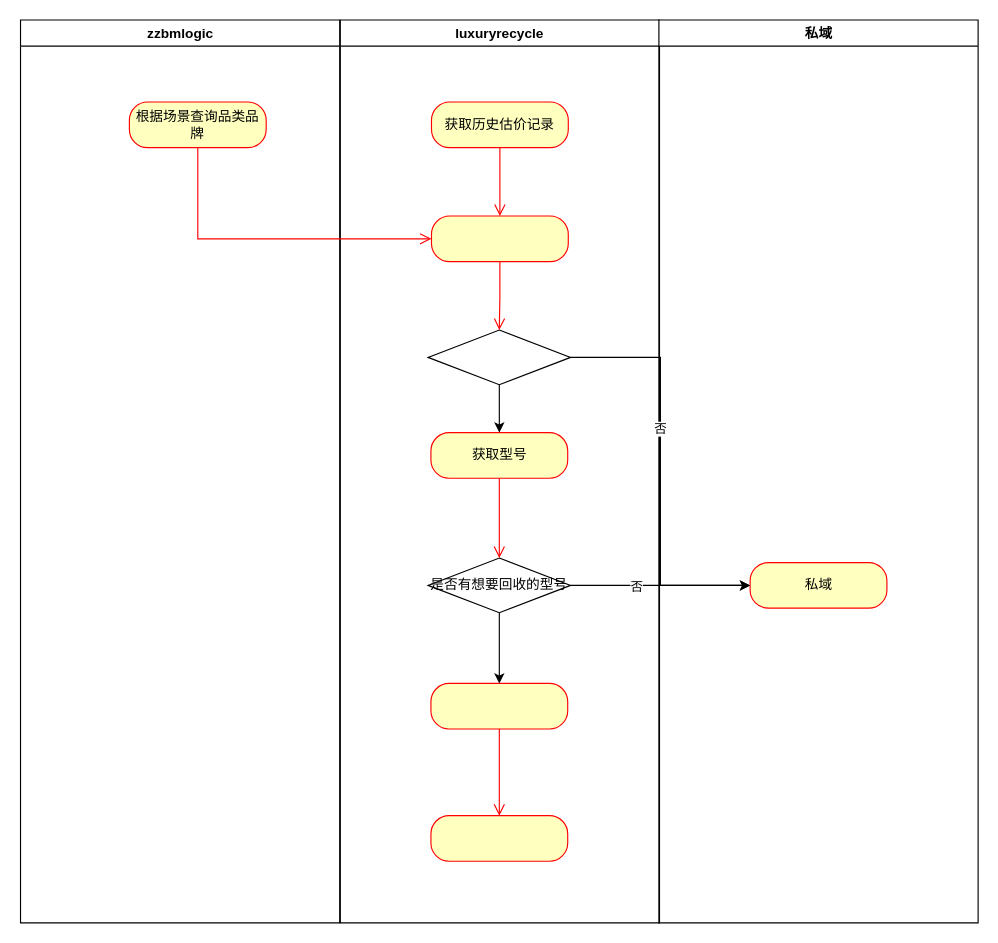
The diagram is 998 pixels wide and 943 high, and some of its shapes have lost their labels. Here are the shapes that lost their labels. From the top down, the centre of each, then its label:
At pixel 499 238: "获取系列".
At pixel 499 357: "是否有想要回收的系列".
At pixel 499 705: "获取属性信息".
At pixel 499 838: "获取估价".
